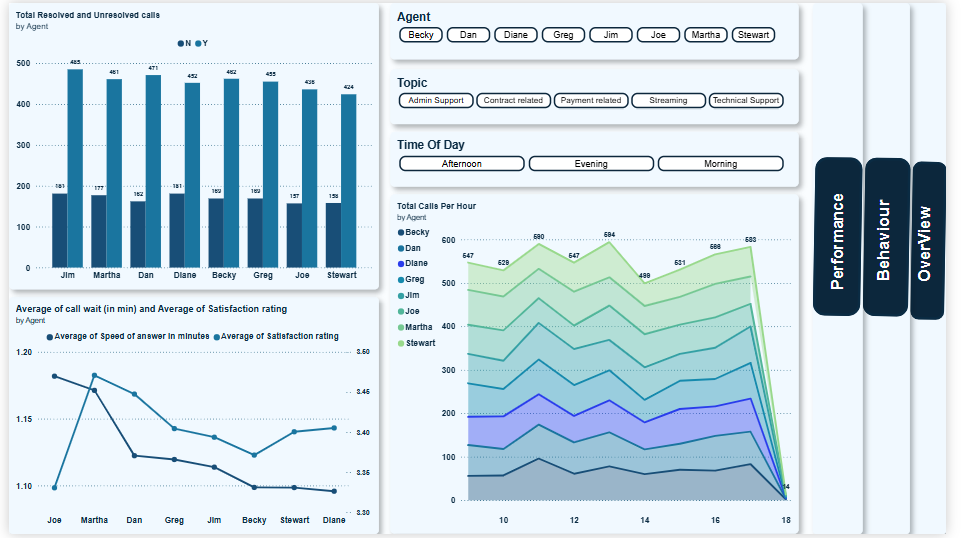

What the dashboard file says about the page in this screenshot:
{"tool":"powerbi","page":{"name":"Agent Performance","canvas":[1500,850],"ordinal":2},"visuals":[{"type":"shape","box":[1420,0,80,850],"z":0},{"type":"actionButton","title":"Overview","box":[1441.7,231.7,58.3,296.7],"z":1000},{"type":"shape","box":[1348.3,0,93.3,850],"z":2000},{"type":"actionButton","title":"Overview","box":[1365,231.7,76.7,285],"z":3000},{"type":"shape","box":[1285,0,80,850],"z":4000},{"type":"actionButton","title":"Overview","box":[1285,231.7,80,283.3],"z":5000},{"type":"ChicletSlicer1448559807354","title":"Agent","fields":{"Category":["Sheet1.Agent"]},"box":[610,0,653.3,90],"z":6000},{"type":"ChicletSlicer1448559807354","title":"Topic","fields":{"Category":["Sheet1.Topic"]},"box":[610,105,653.3,88.3],"z":7000},{"type":"ChicletSlicer1448559807354","title":"Time Of Day","fields":{"Category":["Sheet1.TimeOfDay"]},"box":[610,205,653.3,88.3],"z":8000},{"type":"lineChart","title":"Average of call wait (in min) and Average of Satisfaction rating","fields":{"Y":["Avg(Sheet1.Speed of answer in minutes)"],"Y2":["Avg(Sheet1.Satisfaction rating)"],"Category":["Sheet1.Agent"]},"box":[0,470,591.7,380],"z":9000},{"type":"clusteredColumnChart","title":"Total Resolved and Unresolved calls","fields":{"Category":["Sheet1.Agent"],"Y":["CountNonNull(Sheet1.Resolved)"],"Series":["Sheet1.Resolved"]},"box":[0,0,591.7,458.3],"z":10000},{"type":"stackedAreaChart","title":"Total Calls Per Hour","fields":{"Category":["Sheet1.Call Hour"],"Y":["CountNonNull(Sheet1.Call Id)"],"Series":["Sheet1.Agent"]},"box":[610,306.7,653.3,543.3],"z":11000}]}

Visuals, with their boxes in screenshot pixels (x1, y1, x2, y2), scaled from the page's 1500x850 canvas onto the 966x538 screenshot:
shape: x1=914, y1=0, x2=965, y2=537
"Overview" actionButton: x1=928, y1=147, x2=965, y2=334
shape: x1=868, y1=0, x2=928, y2=537
"Overview" actionButton: x1=879, y1=147, x2=928, y2=327
shape: x1=828, y1=0, x2=879, y2=537
"Overview" actionButton: x1=828, y1=147, x2=879, y2=326
"Agent" ChicletSlicer1448559807354: x1=393, y1=0, x2=814, y2=57
"Topic" ChicletSlicer1448559807354: x1=393, y1=66, x2=814, y2=122
"Time Of Day" ChicletSlicer1448559807354: x1=393, y1=130, x2=814, y2=186
"Average of call wait (in min) and Average of Satisfaction rating" lineChart: x1=0, y1=297, x2=381, y2=537
"Total Resolved and Unresolved calls" clusteredColumnChart: x1=0, y1=0, x2=381, y2=290
"Total Calls Per Hour" stackedAreaChart: x1=393, y1=194, x2=814, y2=537
